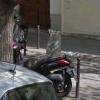Motorcycle: (16, 46, 75, 93)
